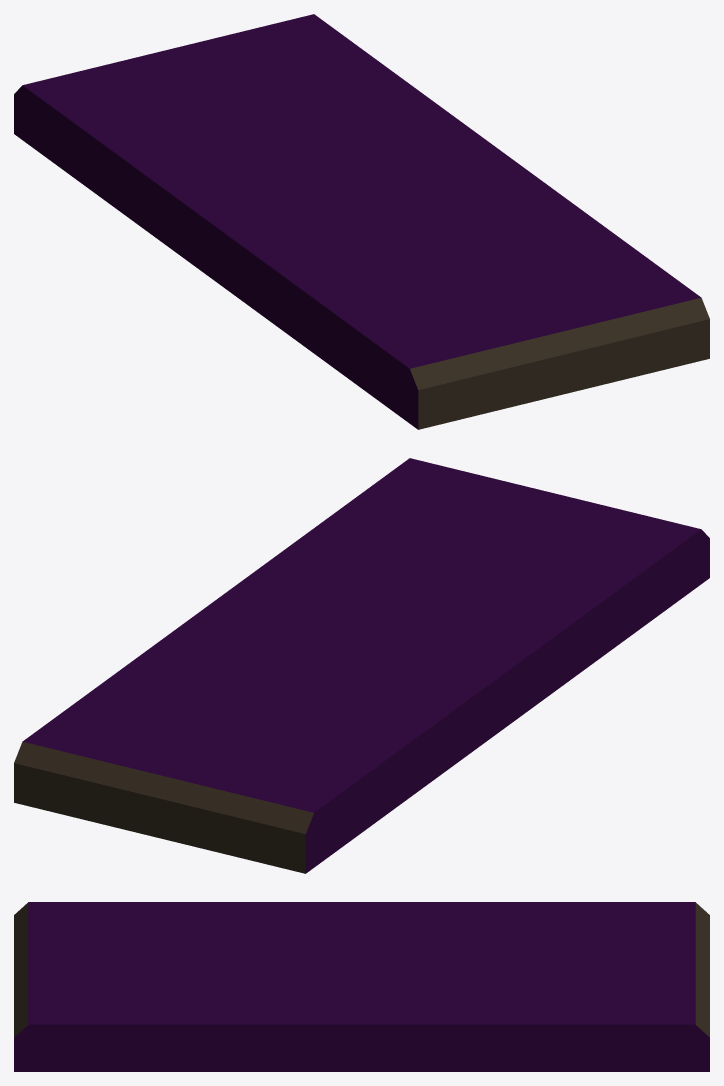
Rendered from monorail_median.glb.
The picture shows the model from 3 angles, top to bottom: view 1: azimuth 30°, elevation 25°; view 2: azimuth 150°, elevation 25°; view 3: azimuth 270°, elevation 25°; orthographic projection. The views are drawn at different scales.
Visible parts, largest first — view 1: monorail_median; view 2: monorail_median; view 3: monorail_median.
Boxes of the visible parts, x1=… form: monorail_median: x1=14, y1=14, x2=709, y2=429; monorail_median: x1=14, y1=458, x2=709, y2=873; monorail_median: x1=14, y1=902, x2=709, y2=1071.
Size of the model in its own units: 1 by 0.1799 by 2.4.
